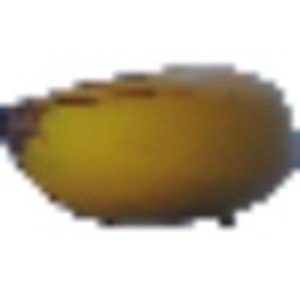banana: (11, 60, 297, 232)
